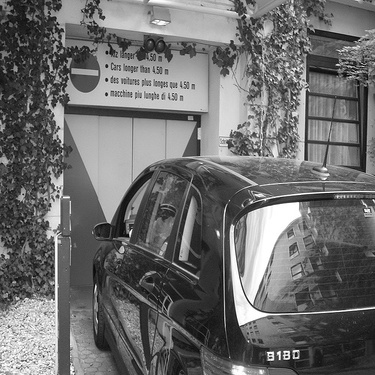car: (80, 155, 373, 372)
